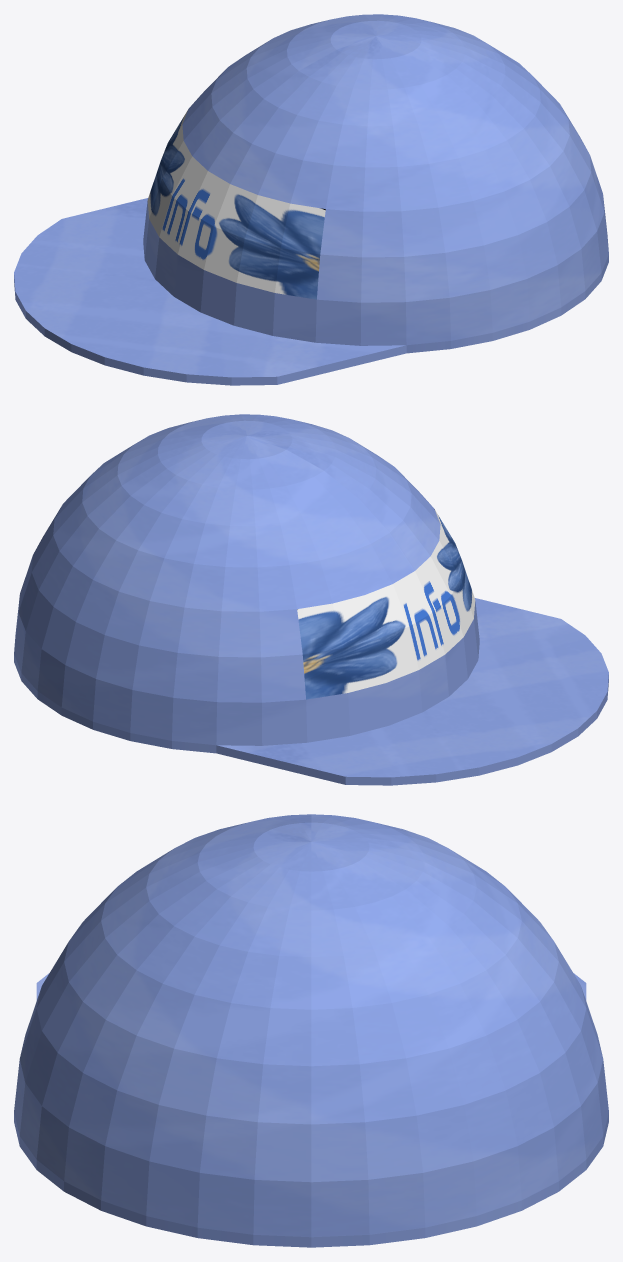
Rendered from CasquetteBleue.glb.
3 views of the same model, one above another, from view 1: azimuth 30°, elevation 25°; view 2: azimuth 150°, elevation 25°; view 3: azimuth 270°, elevation 25° (orthographic). The views are drawn at different scales.
Parts seen in each view (by area): view 1: Sphere; view 2: Sphere; view 3: Sphere.
Boxes of the visible parts, left/top/right/bottom form: Sphere: left=14, top=14, right=608, bottom=385; Sphere: left=14, top=414, right=608, bottom=785; Sphere: left=14, top=814, right=608, bottom=1247.
Bounding box in the file's own units: 0.2639 × 0.1039 × 0.2.
Materials: 2 (2 with a texture image).
